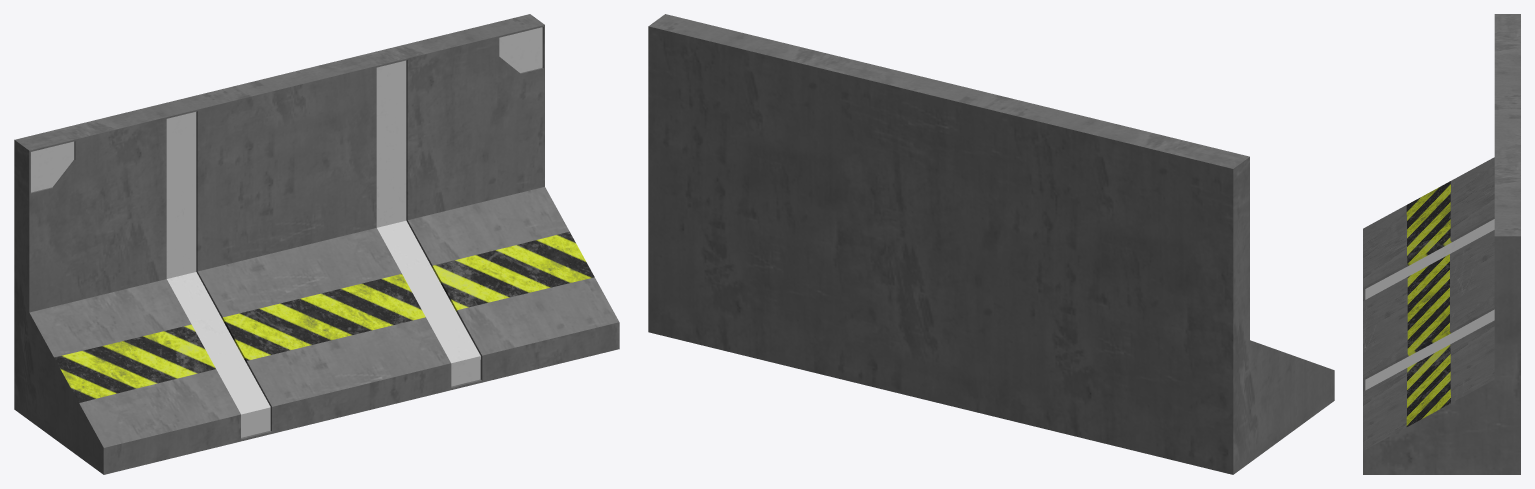
Rendered from Foundation Wall.fbx.
The picture shows the model from 3 angles, left to right: view 1: azimuth 30°, elevation 25°; view 2: azimuth 150°, elevation 25°; view 3: azimuth 270°, elevation 25°; orthographic projection. The views are drawn at different scales.
Visible parts, largest first — view 1: Cube.003; view 2: Cube.003; view 3: Cube.003.
Part boxes in pixels (box(x1,y1,x2,y2)): Cube.003: box(14, 14, 619, 474); Cube.003: box(648, 14, 1334, 474); Cube.003: box(1363, 14, 1520, 474).
Size of the model in its own units: 200 by 99.98 by 60.
Materials: 1 (1 with a texture image).
